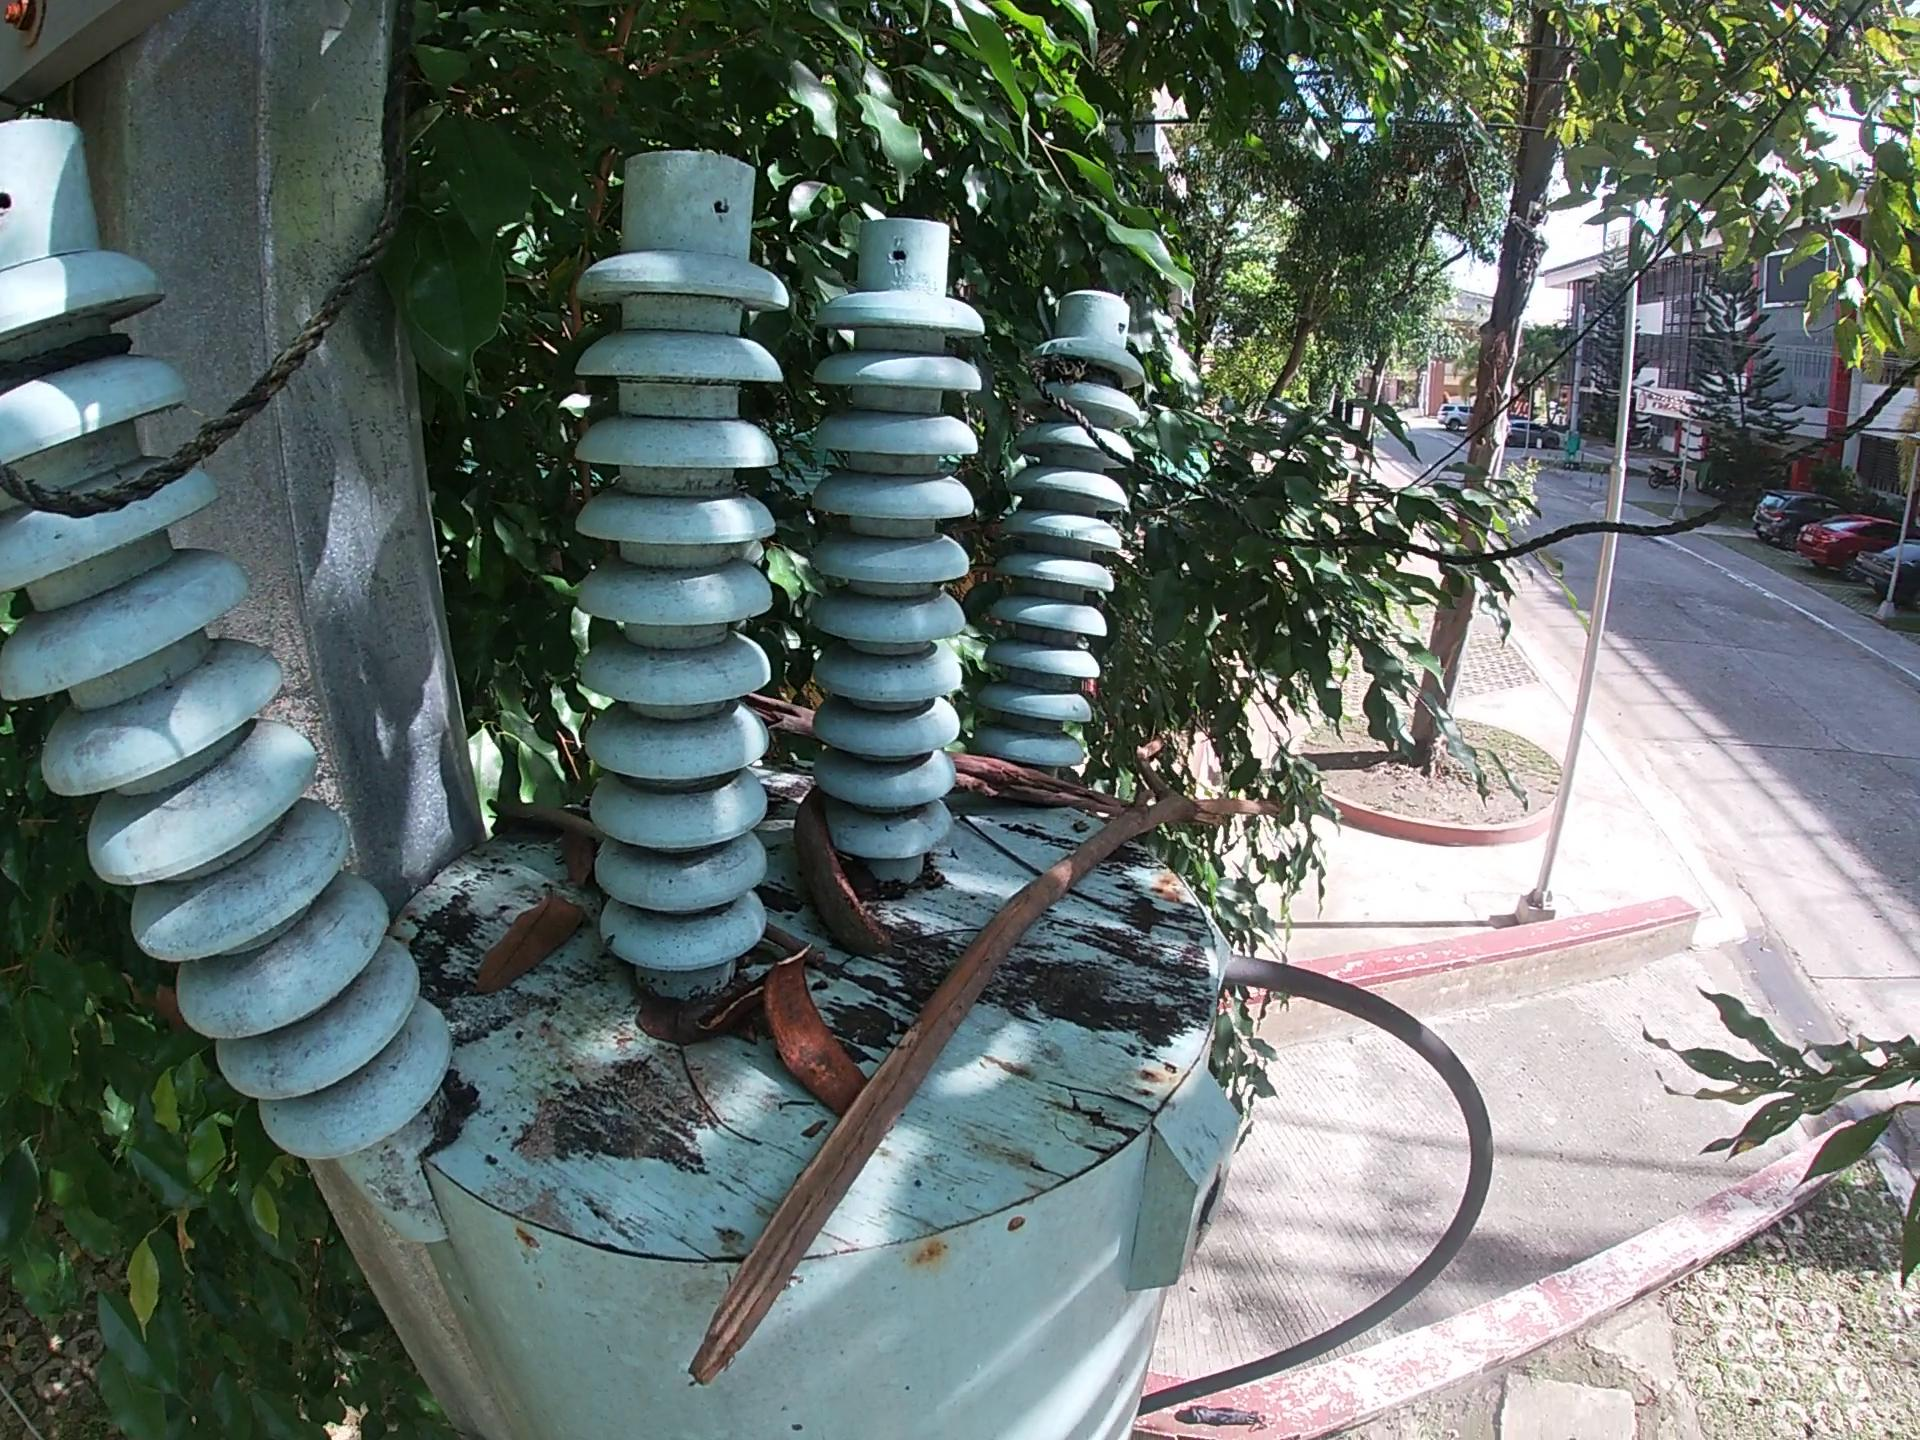leaf: (466, 880, 594, 1004), (630, 989, 717, 1050), (558, 830, 602, 889)
mahogany fruit: (760, 939, 872, 1125), (791, 784, 904, 959)
tree branch: (677, 723, 1287, 1402), (738, 691, 1147, 818), (473, 797, 603, 839), (756, 920, 828, 967)
